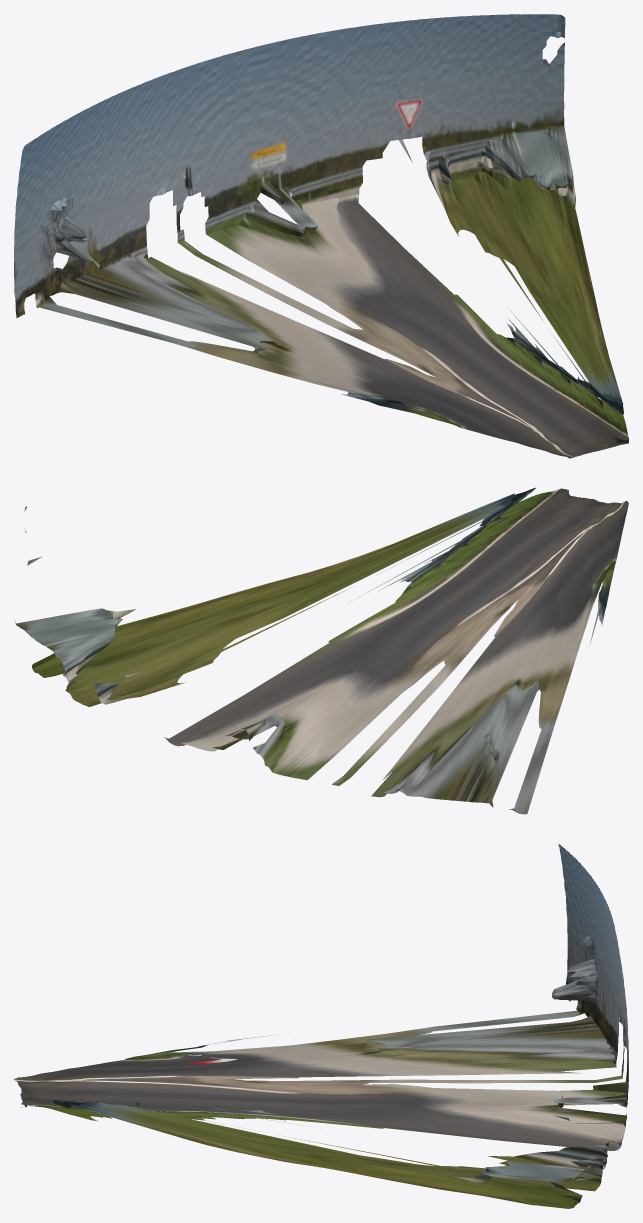
3 renders of one model, top to bottom at view 1: azimuth 30°, elevation 25°; view 2: azimuth 150°, elevation 25°; view 3: azimuth 270°, elevation 25°, orthographic. The views are drawn at different scales.
Visible parts, largest first — view 1: defaultobject; view 2: defaultobject; view 3: defaultobject.
Boxes of the visible parts, box(x1,y1,x2,y2) form: defaultobject: box(14, 14, 628, 458); defaultobject: box(15, 487, 628, 814); defaultobject: box(14, 844, 628, 1208).
Bounding box in the file's own units: 41.16 × 13.32 × 44.83.
Materials: 1 (1 with a texture image).
